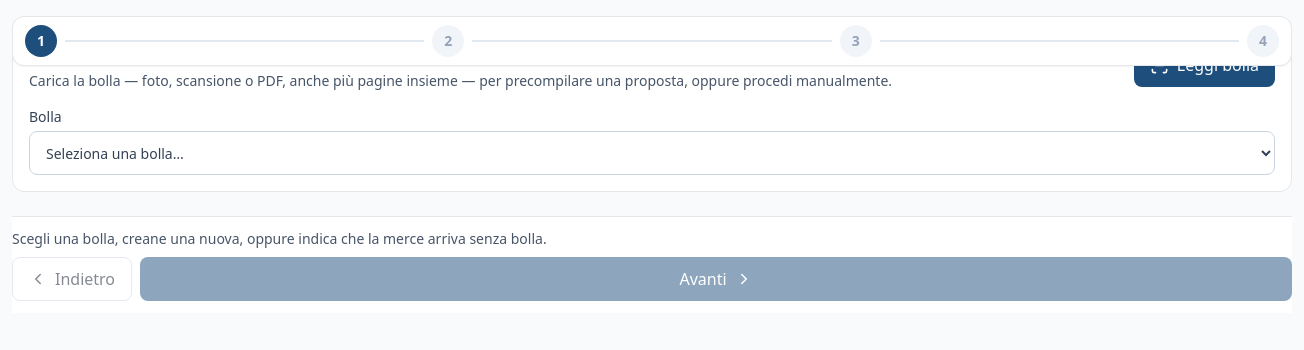
Test: ReceiveForm su telefono › permette di tornare su un passo già fatto
Select "Senza bolla (aggiungi il numero dopo)" in the dropdown labelled "Bolla" at (652, 153), box [29,131,1275,175]
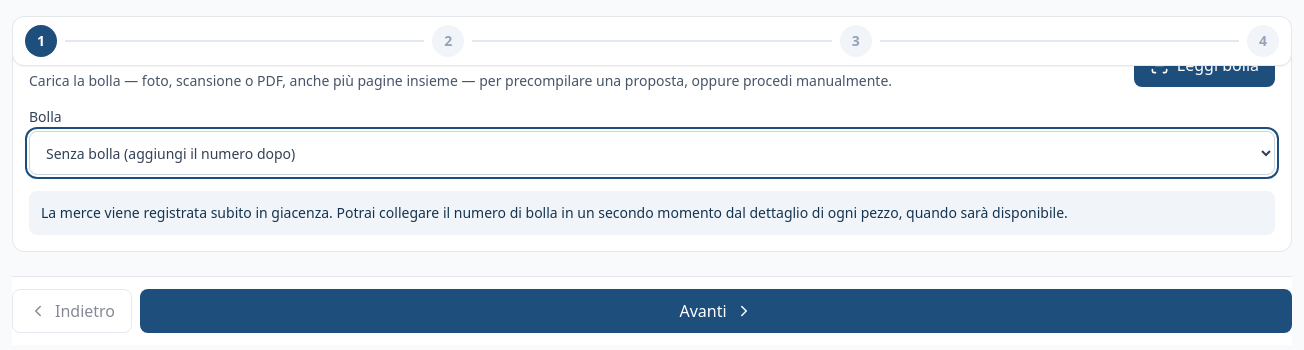
Click the button "Avanti" at (716, 311), box [140,289,1292,333]
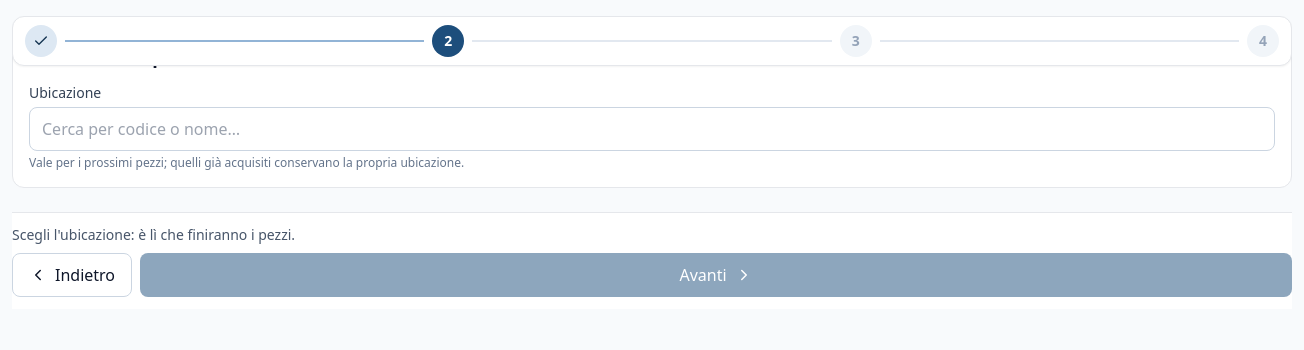
Click the button named "Passo 1: Bolla" at (41, 41), box [25,25,57,57]
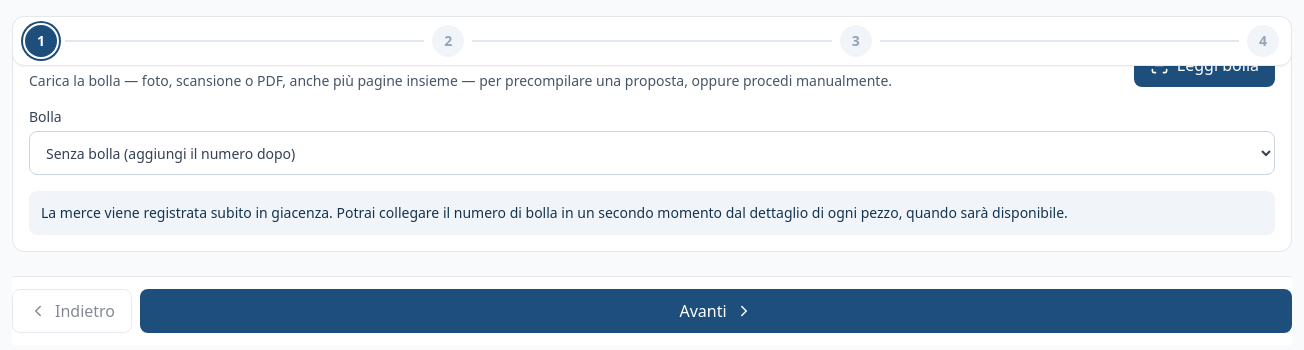
Now the heading "1. Bolla" is shown, box [29,45,94,69]
